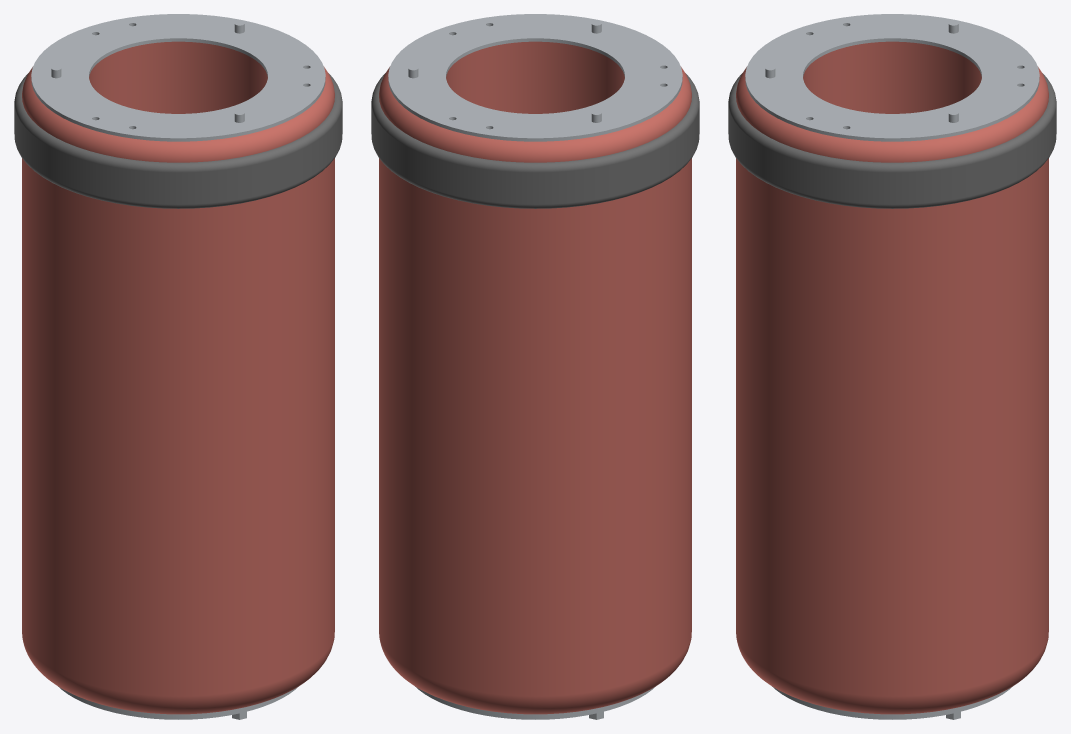
Rendered from step_04.glb.
3 views of the same model, side by side, from view 1: azimuth 30°, elevation 25°; view 2: azimuth 150°, elevation 25°; view 3: azimuth 270°, elevation 25° (orthographic).
Parts seen in each view (by area): view 1: part__float hull, part__deck plate, part__fender ring, part__keel plate; view 2: part__float hull, part__deck plate, part__fender ring, part__keel plate; view 3: part__float hull, part__deck plate, part__fender ring, part__keel plate.
Boxes of the visible parts, left/top/right/bottom form: part__float hull: left=22, top=41, right=334, bottom=714; part__deck plate: left=31, top=14, right=325, bottom=141; part__fender ring: left=14, top=73, right=342, bottom=208; part__keel plate: left=58, top=686, right=298, bottom=719; part__float hull: left=379, top=41, right=691, bottom=714; part__deck plate: left=388, top=14, right=682, bottom=141; part__fender ring: left=371, top=73, right=699, bottom=208; part__keel plate: left=415, top=686, right=655, bottom=719; part__float hull: left=736, top=41, right=1048, bottom=714; part__deck plate: left=745, top=14, right=1039, bottom=141; part__fender ring: left=728, top=73, right=1056, bottom=208; part__keel plate: left=772, top=686, right=1012, bottom=719.
Bounding box in the file's own units: 524 × 1065 × 524.
